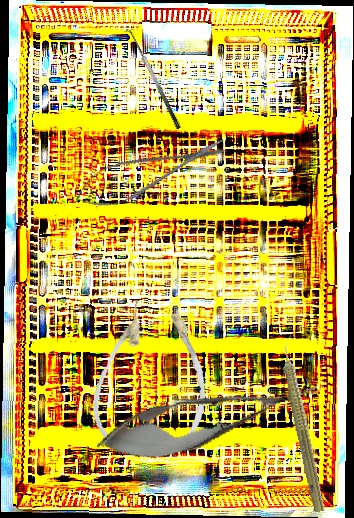Cannula: (87, 296, 217, 461)
Handpiece: (273, 332, 333, 514)
Micro Scissor: (90, 361, 327, 475), (68, 125, 233, 219)
Spatula Surgical: (121, 26, 182, 134)
